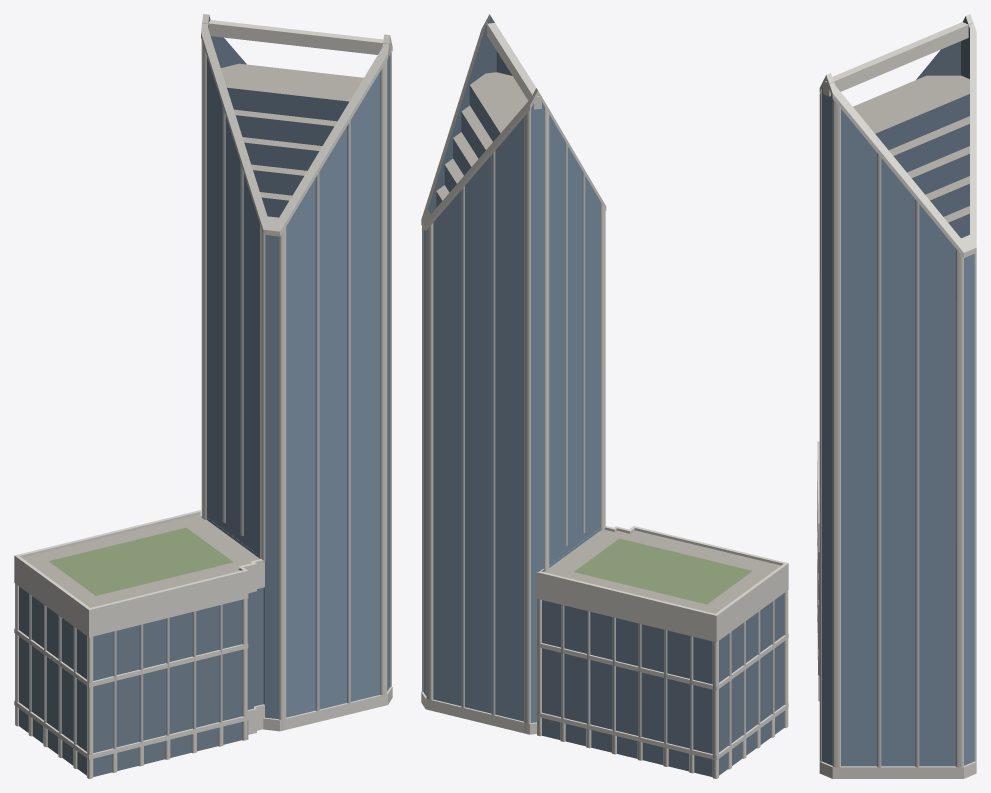
File: duke-energy-center.glb
3 views of the same model, side by side, from view 1: azimuth 30°, elevation 25°; view 2: azimuth 150°, elevation 25°; view 3: azimuth 270°, elevation 25° (orthographic). The views are drawn at different scales.
Parts seen in each view (by area): view 1: Duke Energy Center; view 2: Duke Energy Center; view 3: Duke Energy Center.
Boxes of the visible parts, x1=… form: Duke Energy Center: x1=14, y1=14, x2=392, y2=778; Duke Energy Center: x1=421, y1=14, x2=788, y2=778; Duke Energy Center: x1=817, y1=14, x2=976, y2=778.
Size of the model in its own units: 117 by 240 by 49.5.
